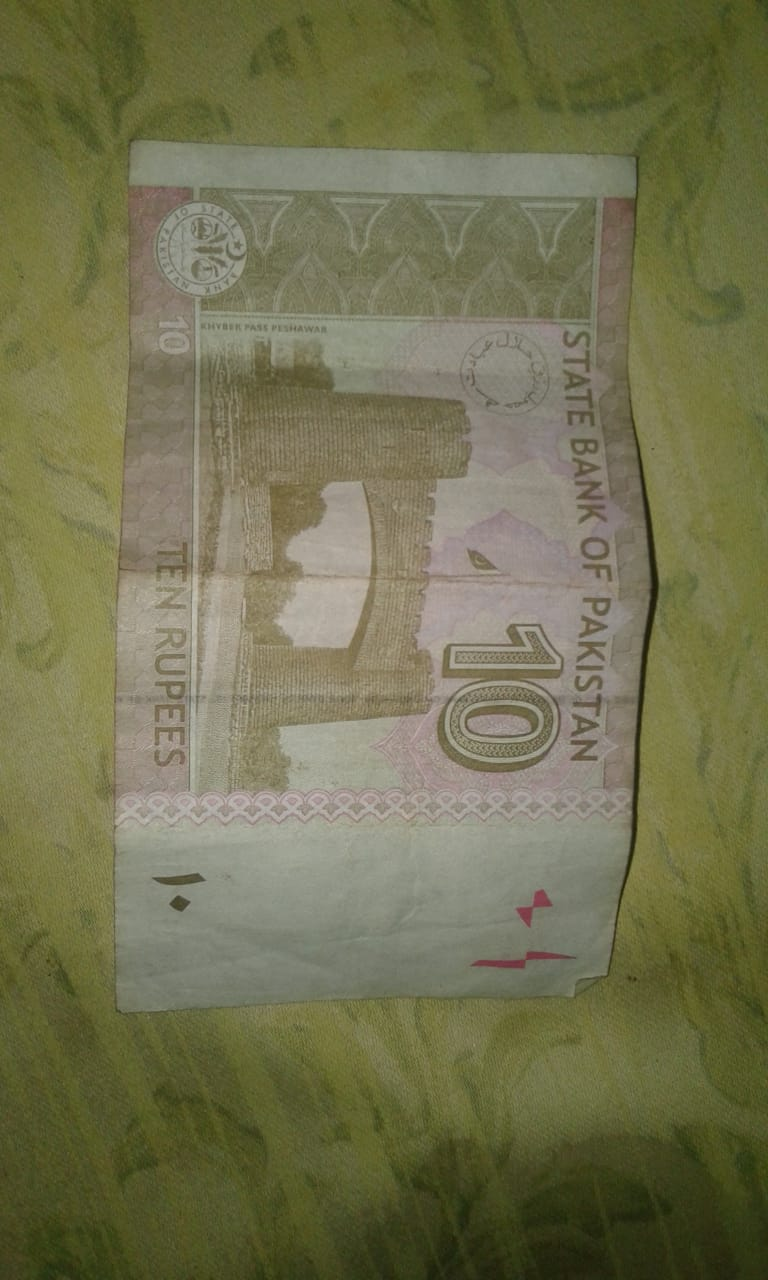10 rupee: (109, 136, 654, 1008)
